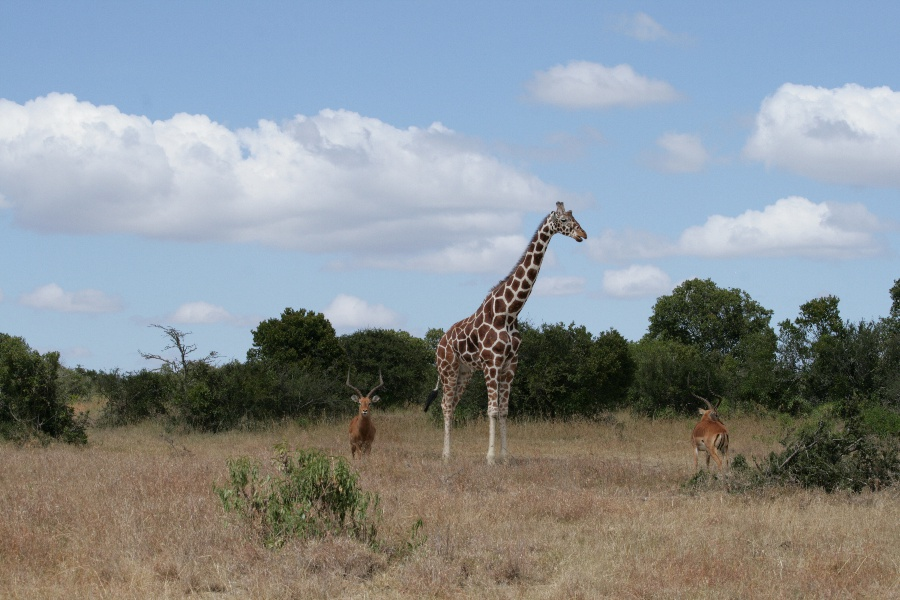giraffe: (421, 191, 593, 475)
